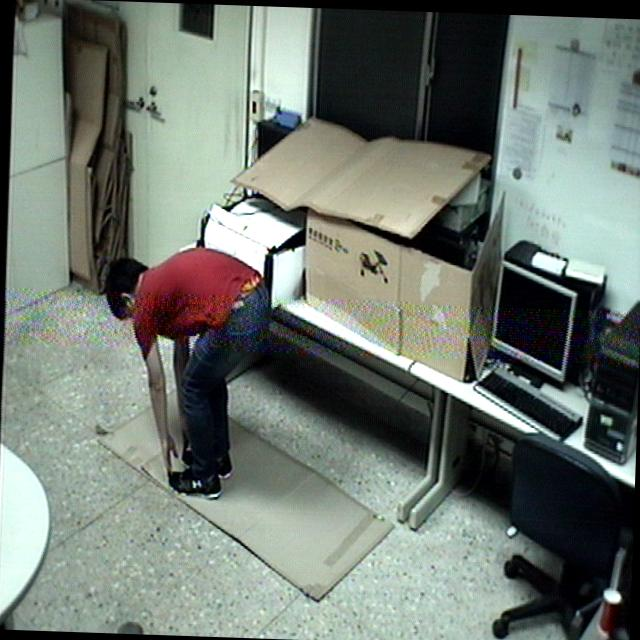bend: (89, 238, 278, 512)
